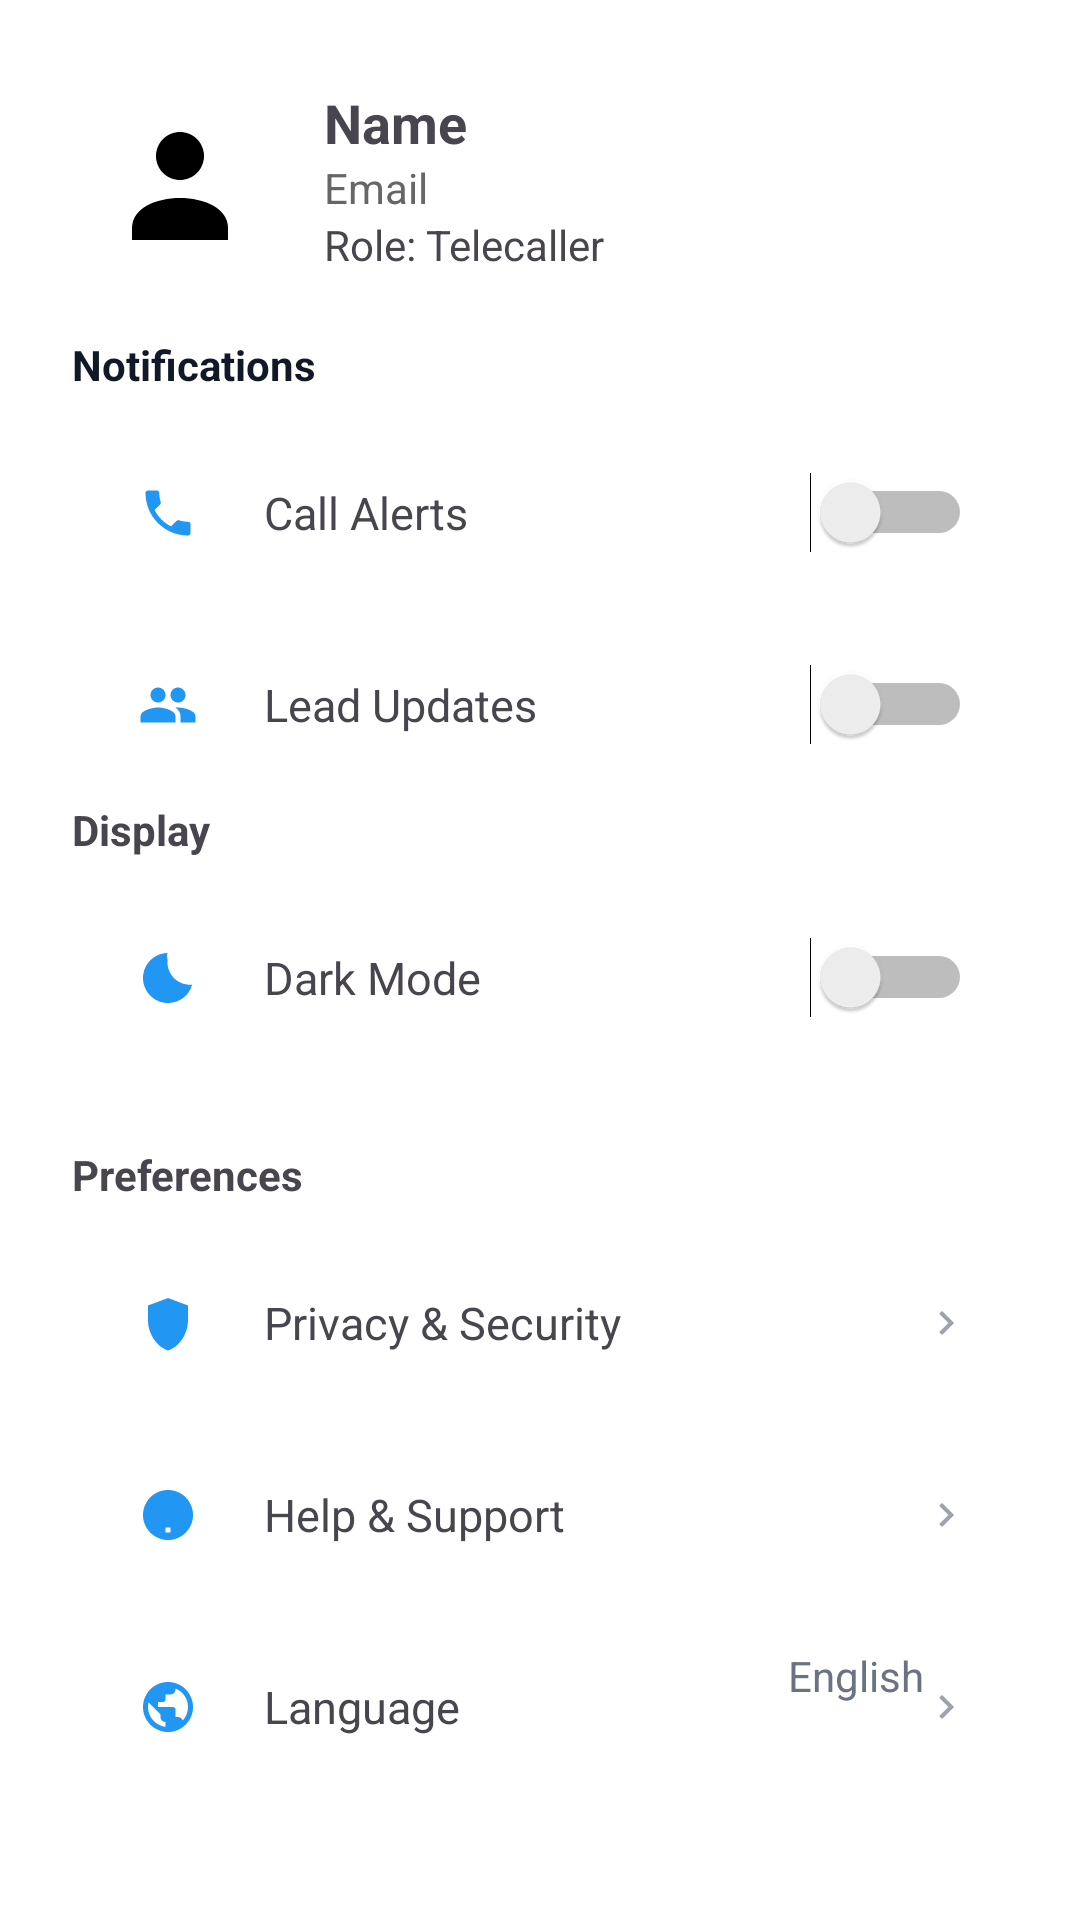

Icons on this 1080px x 1920px Android screen, each with the point to tap as (x=x, y=y):
arrow right: (x=946, y=1323), (x=946, y=1515), (x=946, y=1707)
leads: (x=168, y=705)
person: (x=180, y=186)
